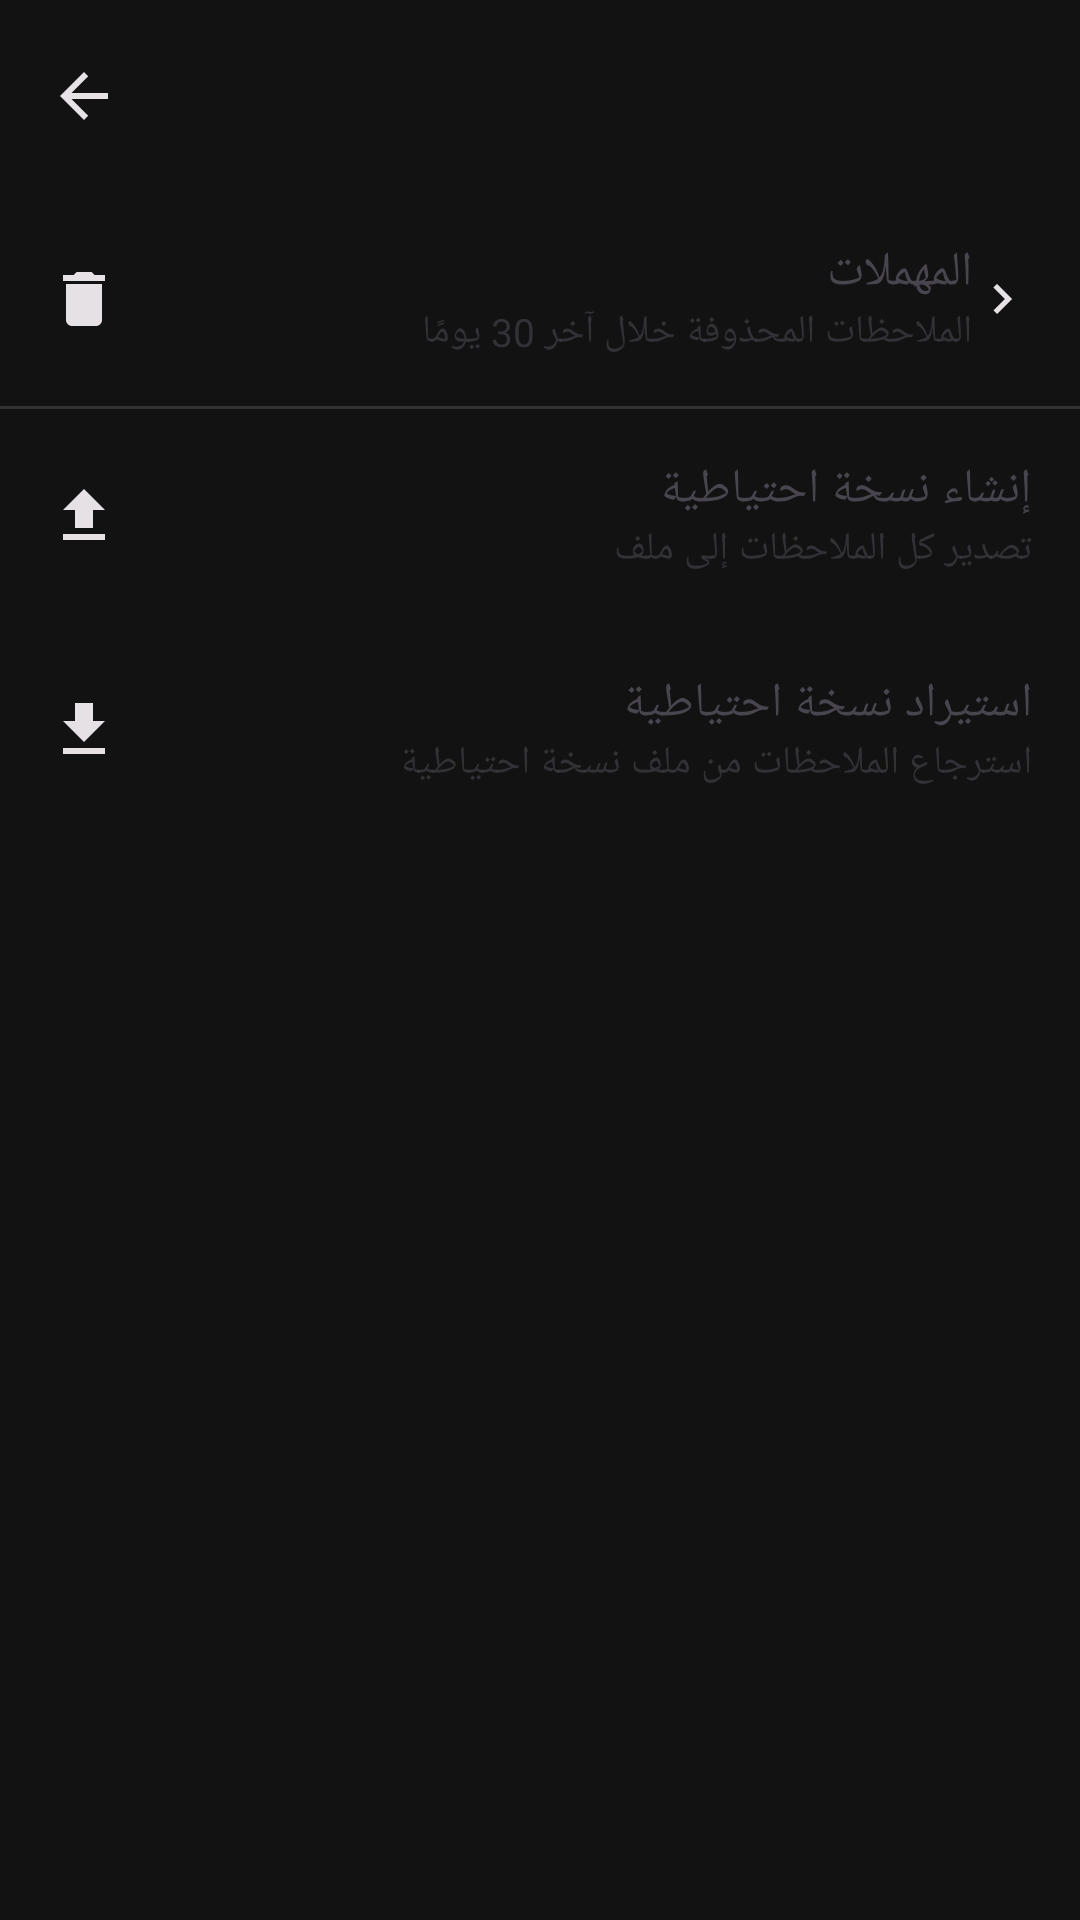

Named icons in this screenshot (1080px x 1920px) and their centers, (x,y):
backup: (84,514)
chevron right: (1002,299)
delete: (84,299)
restore: (84,728)
